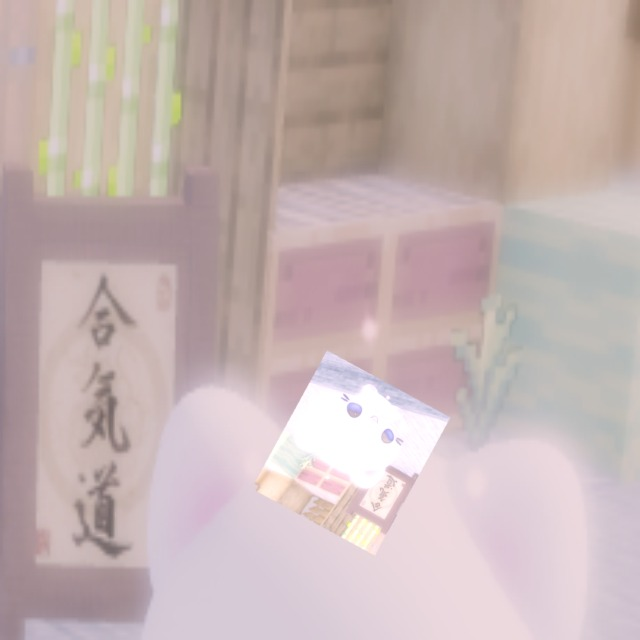urso_branco: (251, 350, 451, 556)
urso_preto: (314, 433, 339, 453)
